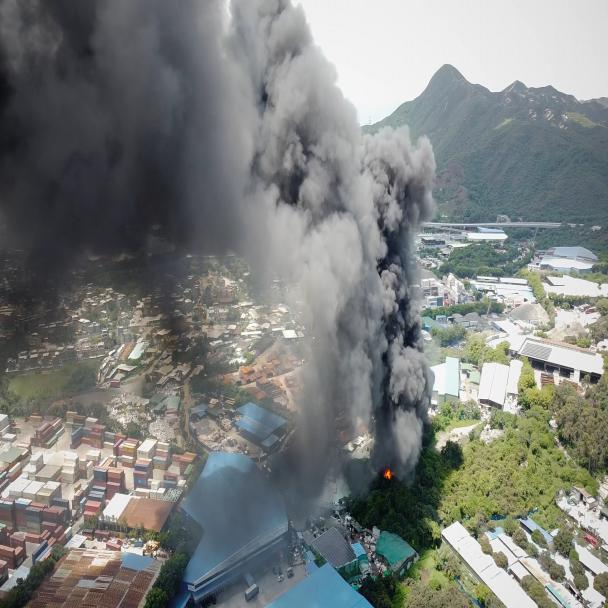Fire: (368, 460, 409, 501)
smoke: (4, 0, 441, 447)
